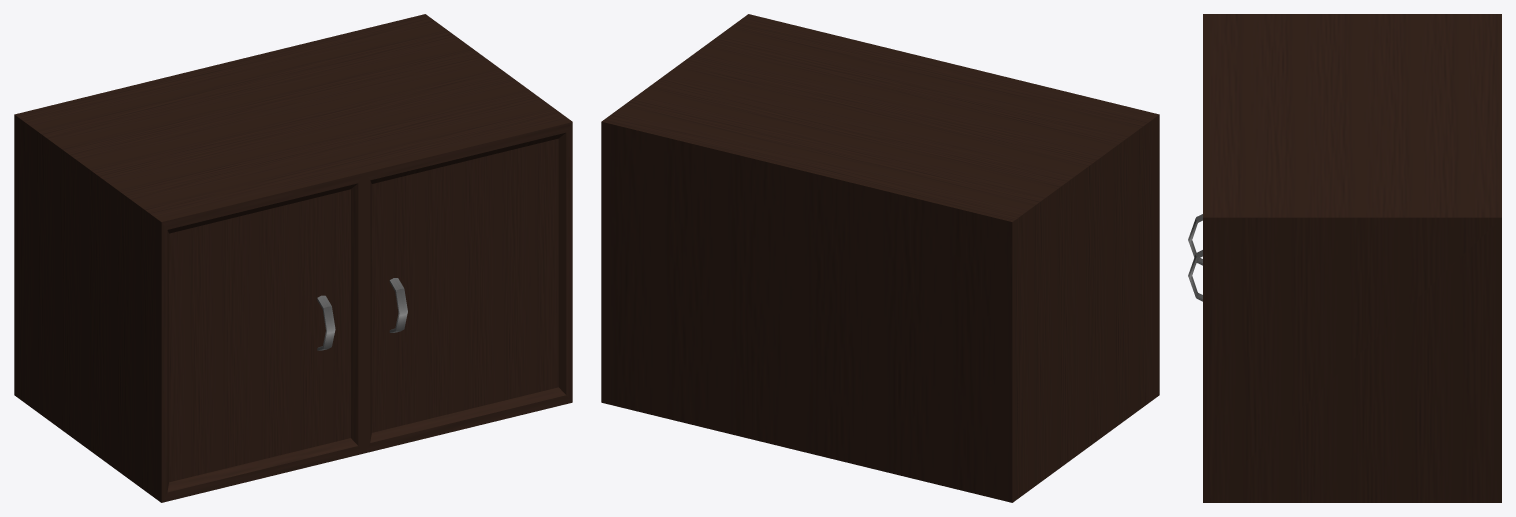
Rendered from Cabinet_A2.FBX.
The picture shows the model from 3 angles, left to right: view 1: azimuth 30°, elevation 25°; view 2: azimuth 150°, elevation 25°; view 3: azimuth 270°, elevation 25°; orthographic projection.
Visible parts, largest first — view 1: Cabinet_01; view 2: Cabinet_01; view 3: Cabinet_01.
Boxes of the visible parts, box(x1,y1,x2,y2) form: Cabinet_01: box(14, 14, 572, 502); Cabinet_01: box(601, 14, 1159, 502); Cabinet_01: box(1188, 14, 1501, 502).
Size of the model in its own units: 125 by 81.56 by 81.32.
